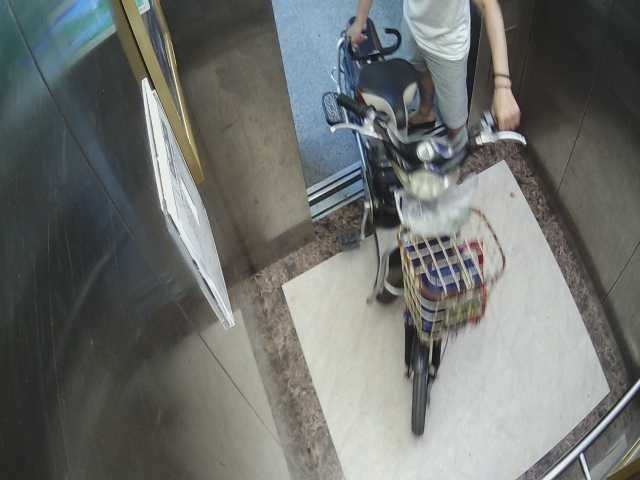emotor: (316, 14, 512, 465)
